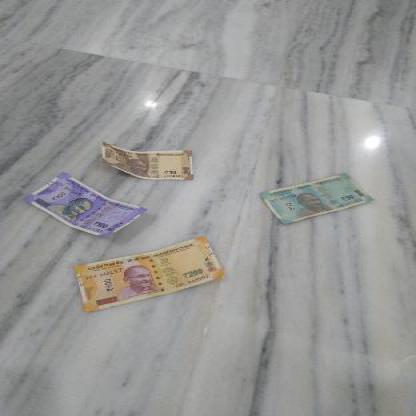New100Front: (16, 182, 145, 240)
New10Front: (101, 140, 190, 177)
New200Front: (72, 242, 225, 311)
New50Front: (260, 177, 377, 224)
